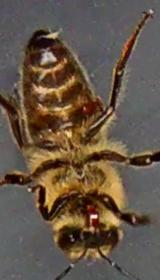varroa_mite: (66, 85, 104, 120)
